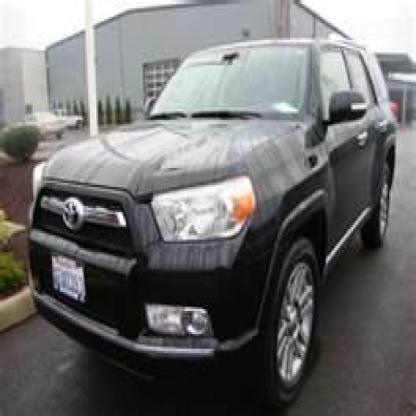Vehicle: (30, 38, 402, 414)
